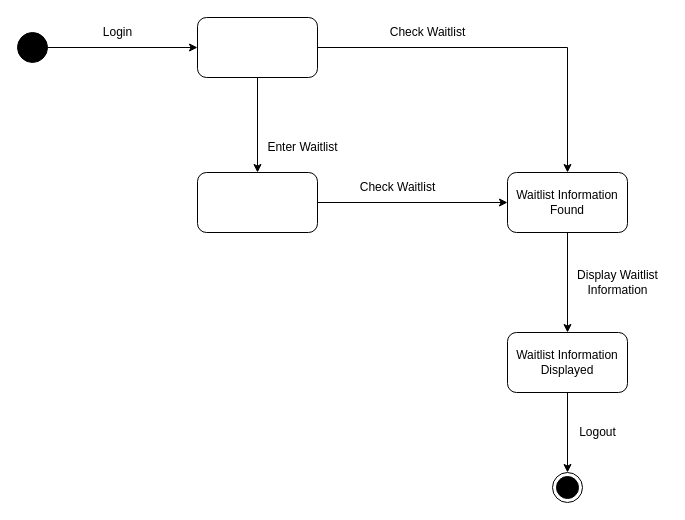
Image size: 685x520. Some labels were removed from this diagram. Each missing label, with the centre of its shape:
"In the Waitlist" goes at (x=257, y=202).
"Logged In" goes at (x=257, y=47).
